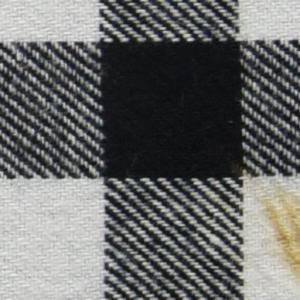Oil Stain: (246, 168, 300, 285)
